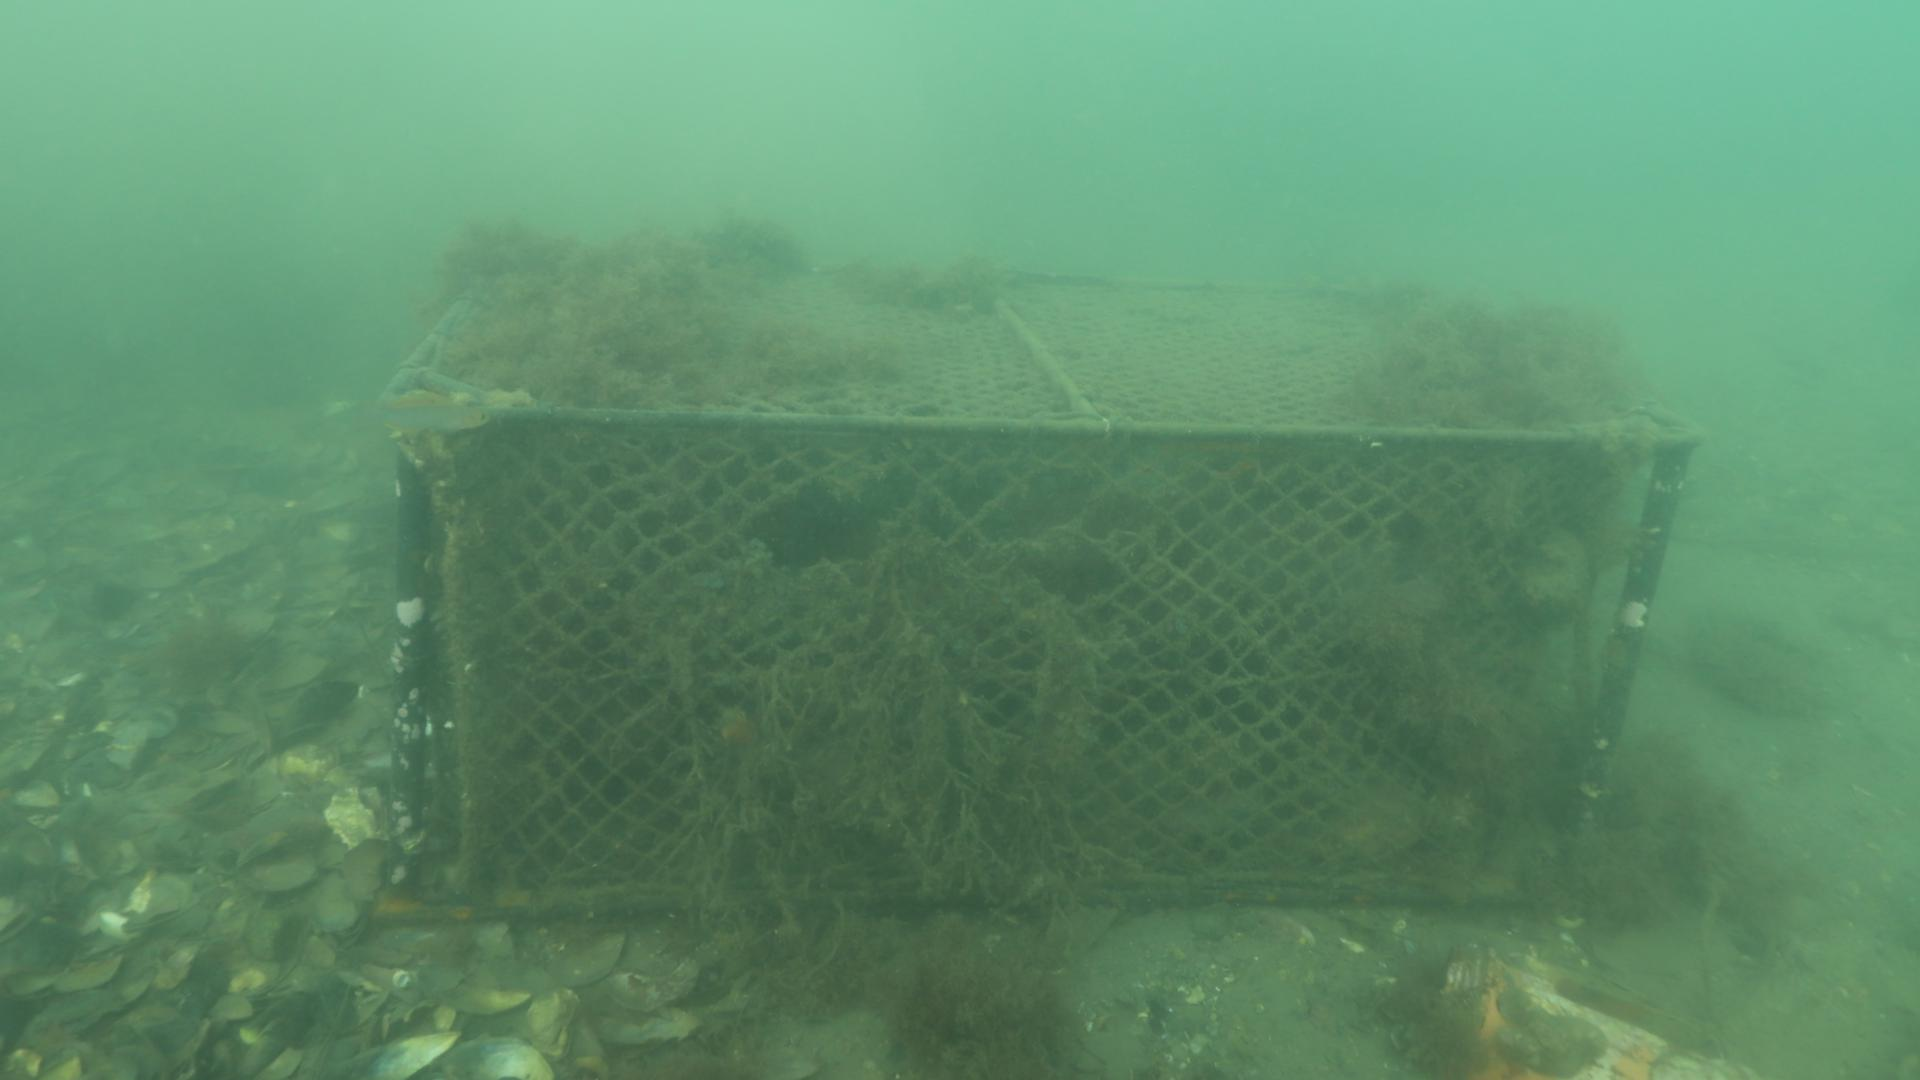rectangular fish trap: (372, 229, 1714, 932)
